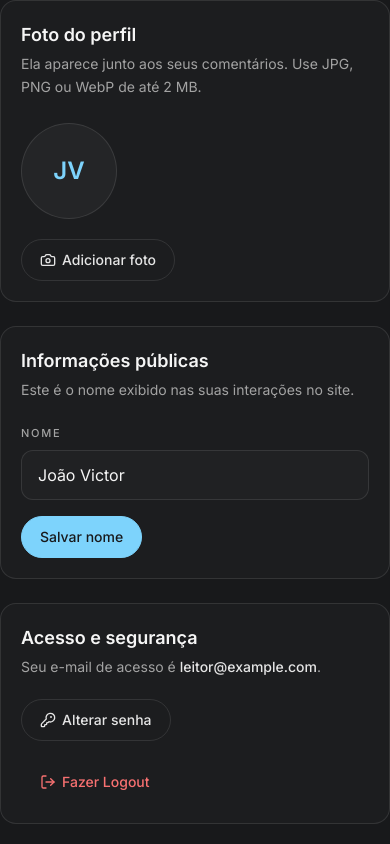
Test: conteúdo da página de perfil › mantém a página e permite repetir o logout quando há falha
The width and height of the screenshot is (390, 844).
Step 1. Click the button "Fazer Logout" → coordinates (95, 782), box [21,760,169,802]
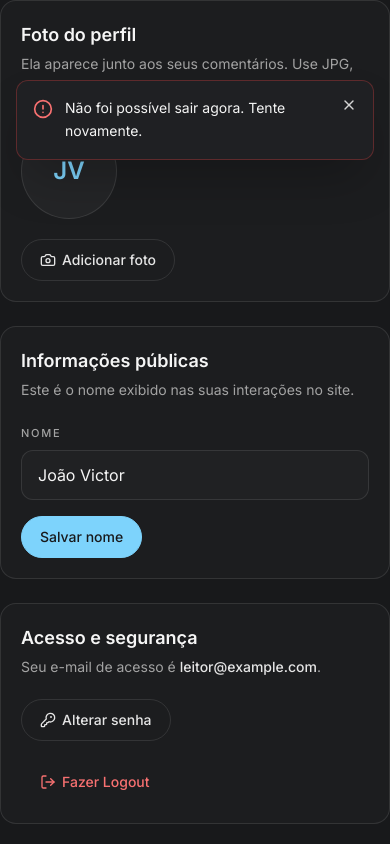
expect the message reads "Não foi possível sair agora. Tente novamente.": met, box [65,99,285,139]
